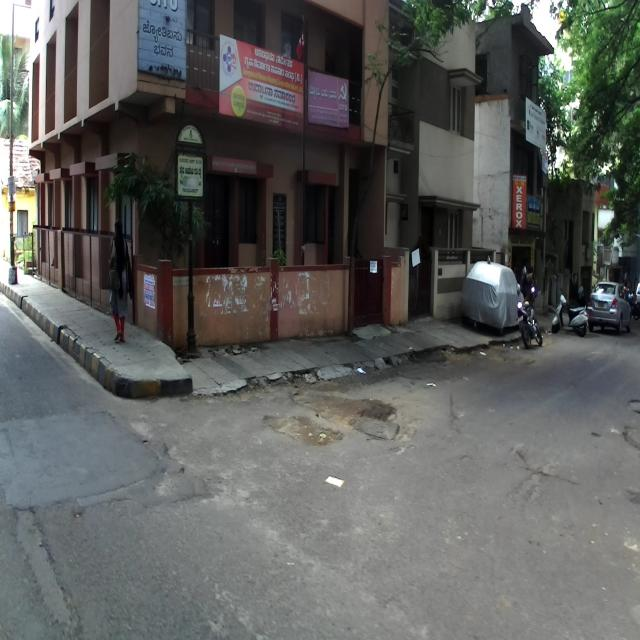Car: (459, 254, 526, 336)
motorcycle_bajaj: (516, 288, 542, 348)
